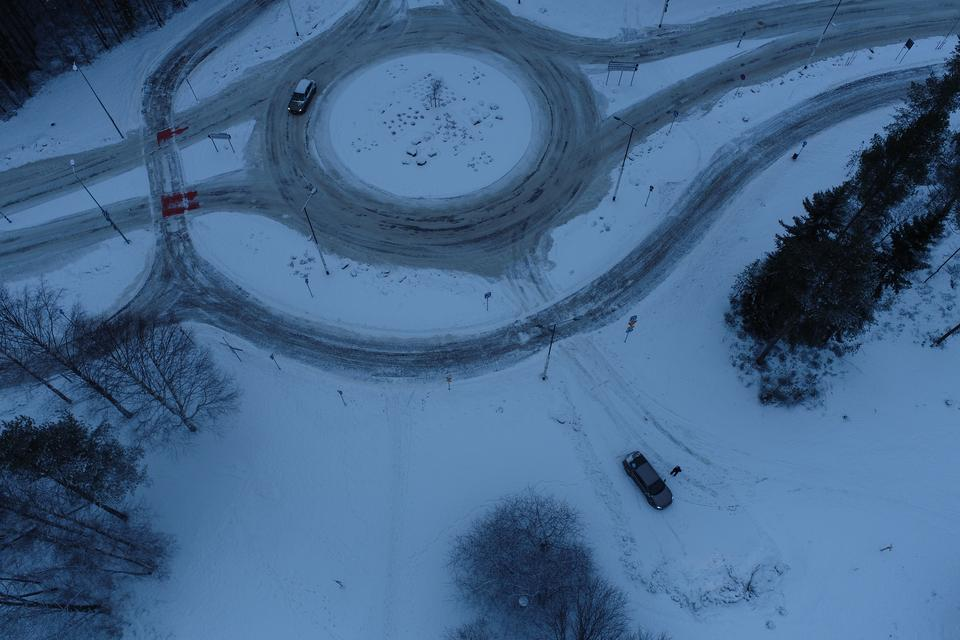intersection: (122, 97, 211, 243)
roundabout: (228, 0, 702, 390)
